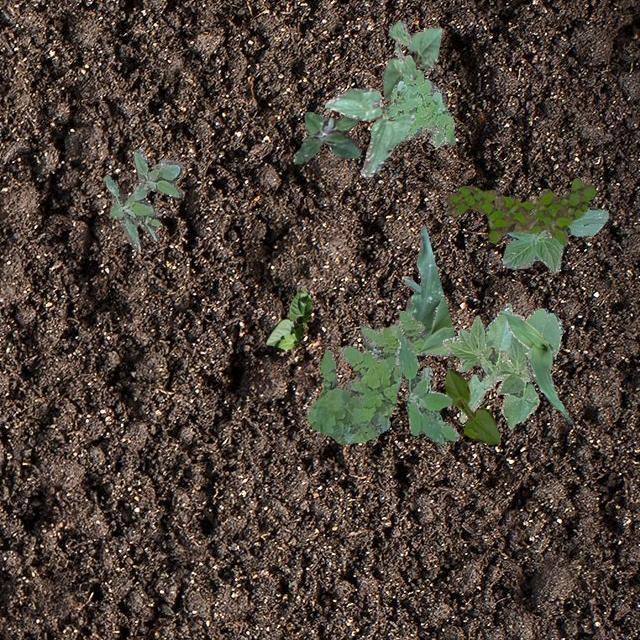crop: (359, 224, 454, 390), (442, 302, 560, 428), (497, 310, 572, 424), (324, 86, 414, 178), (502, 208, 608, 272), (382, 24, 442, 100), (444, 368, 500, 443), (264, 286, 312, 348), (388, 20, 416, 80)
weed: (306, 310, 424, 444), (444, 177, 596, 244), (102, 148, 184, 250), (394, 334, 458, 444), (384, 66, 454, 146), (292, 110, 361, 162)
